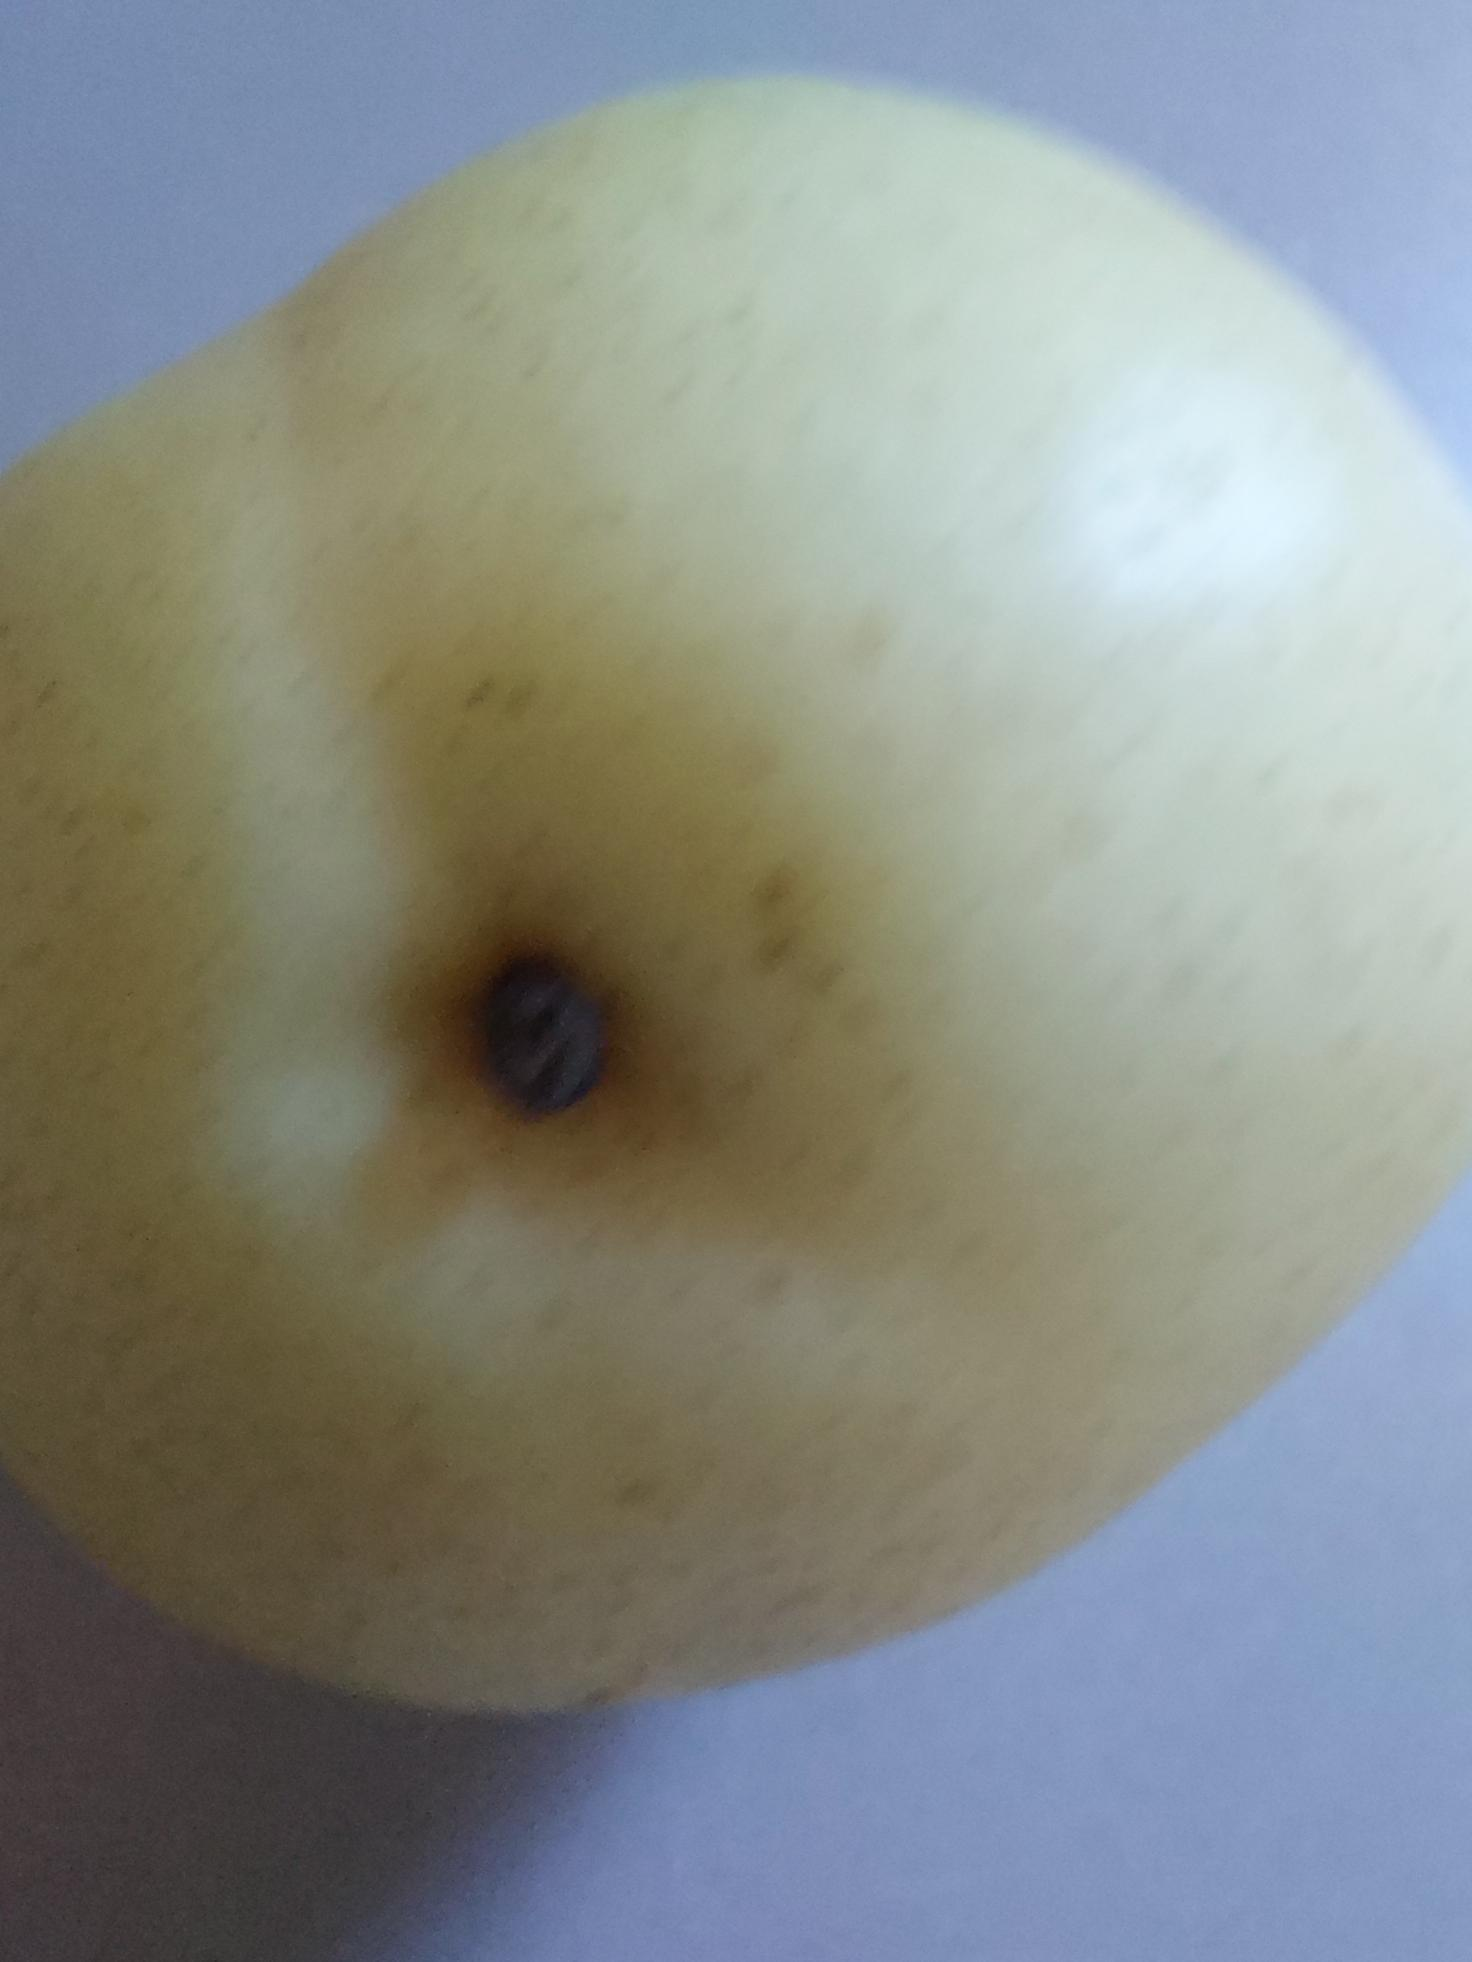Good Pear: (0, 74, 1472, 1732)
